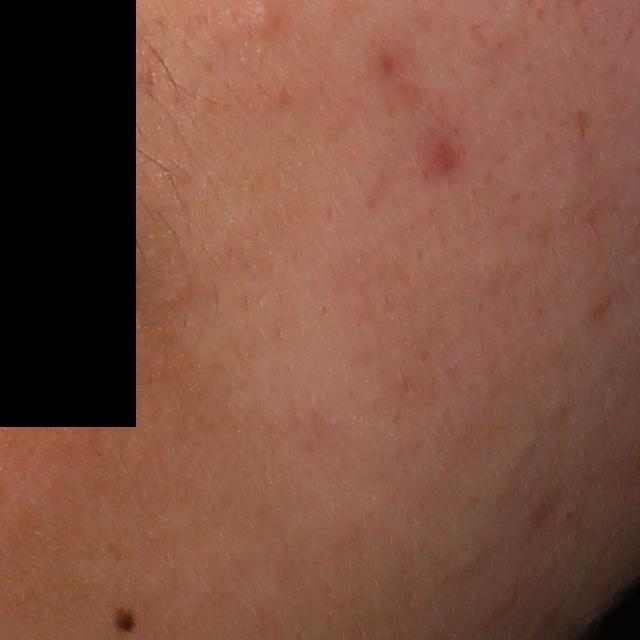nevus: (110, 607, 138, 633)
